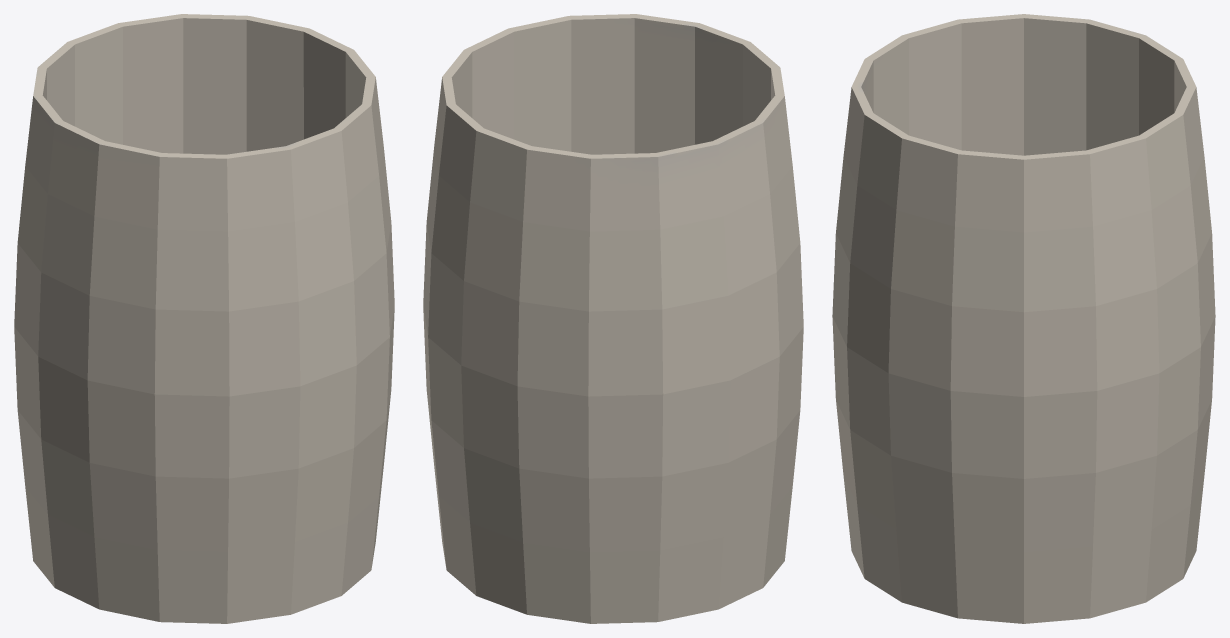
File: Cup.fbx
The picture shows the model from 3 angles, left to right: view 1: azimuth 30°, elevation 25°; view 2: azimuth 150°, elevation 25°; view 3: azimuth 270°, elevation 25°; orthographic projection.
Parts seen in each view (by area): view 1: Cup; view 2: Cup; view 3: Cup.
Boxes of the visible parts, x1,y1,x2,y2 form: Cup: (14, 14, 394, 623); Cup: (423, 14, 803, 623); Cup: (832, 14, 1215, 623).
Bounding box in the file's own units: 8.55 × 11.44 × 8.55.
1 material, 1 textured.
